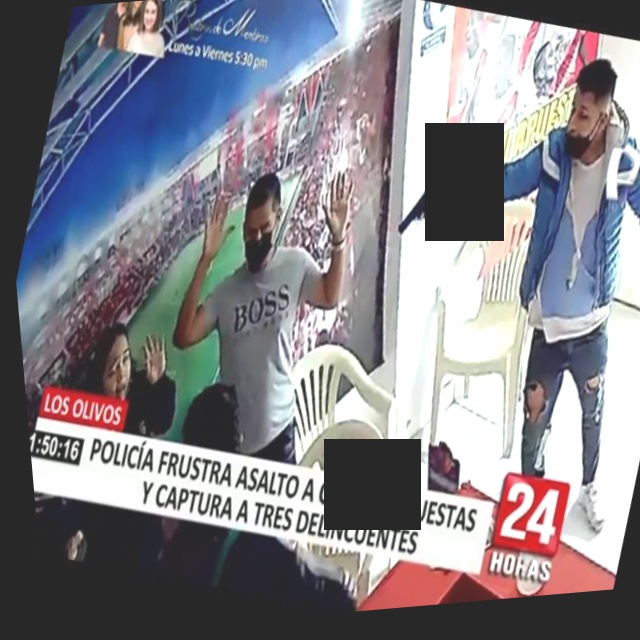gun: (382, 154, 466, 260)
